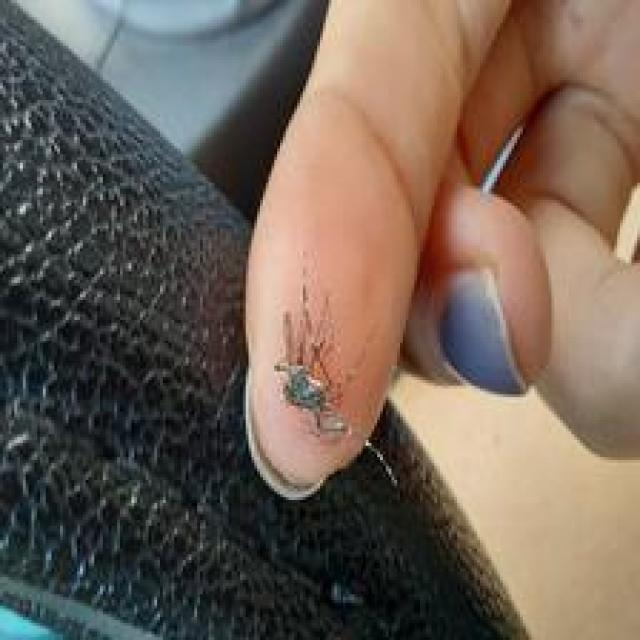Aedes albopictus: (272, 278, 352, 438)
